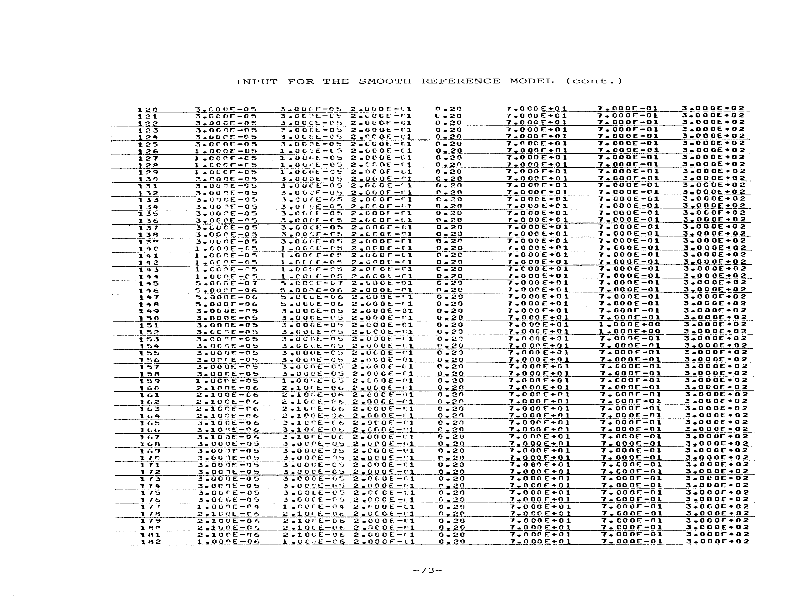table: (112, 98, 756, 548)
